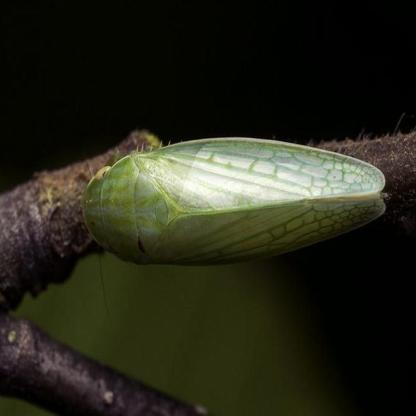green-leafhopper: (84, 136, 386, 268)
